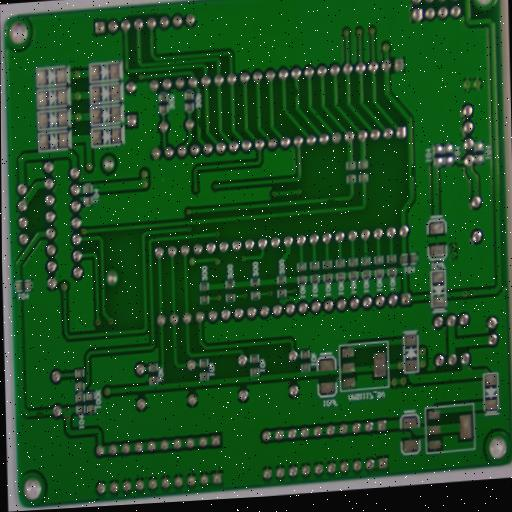mouse_bite: (407, 161, 418, 181), (291, 83, 302, 102), (195, 112, 204, 132), (326, 193, 339, 206), (34, 408, 46, 419)
